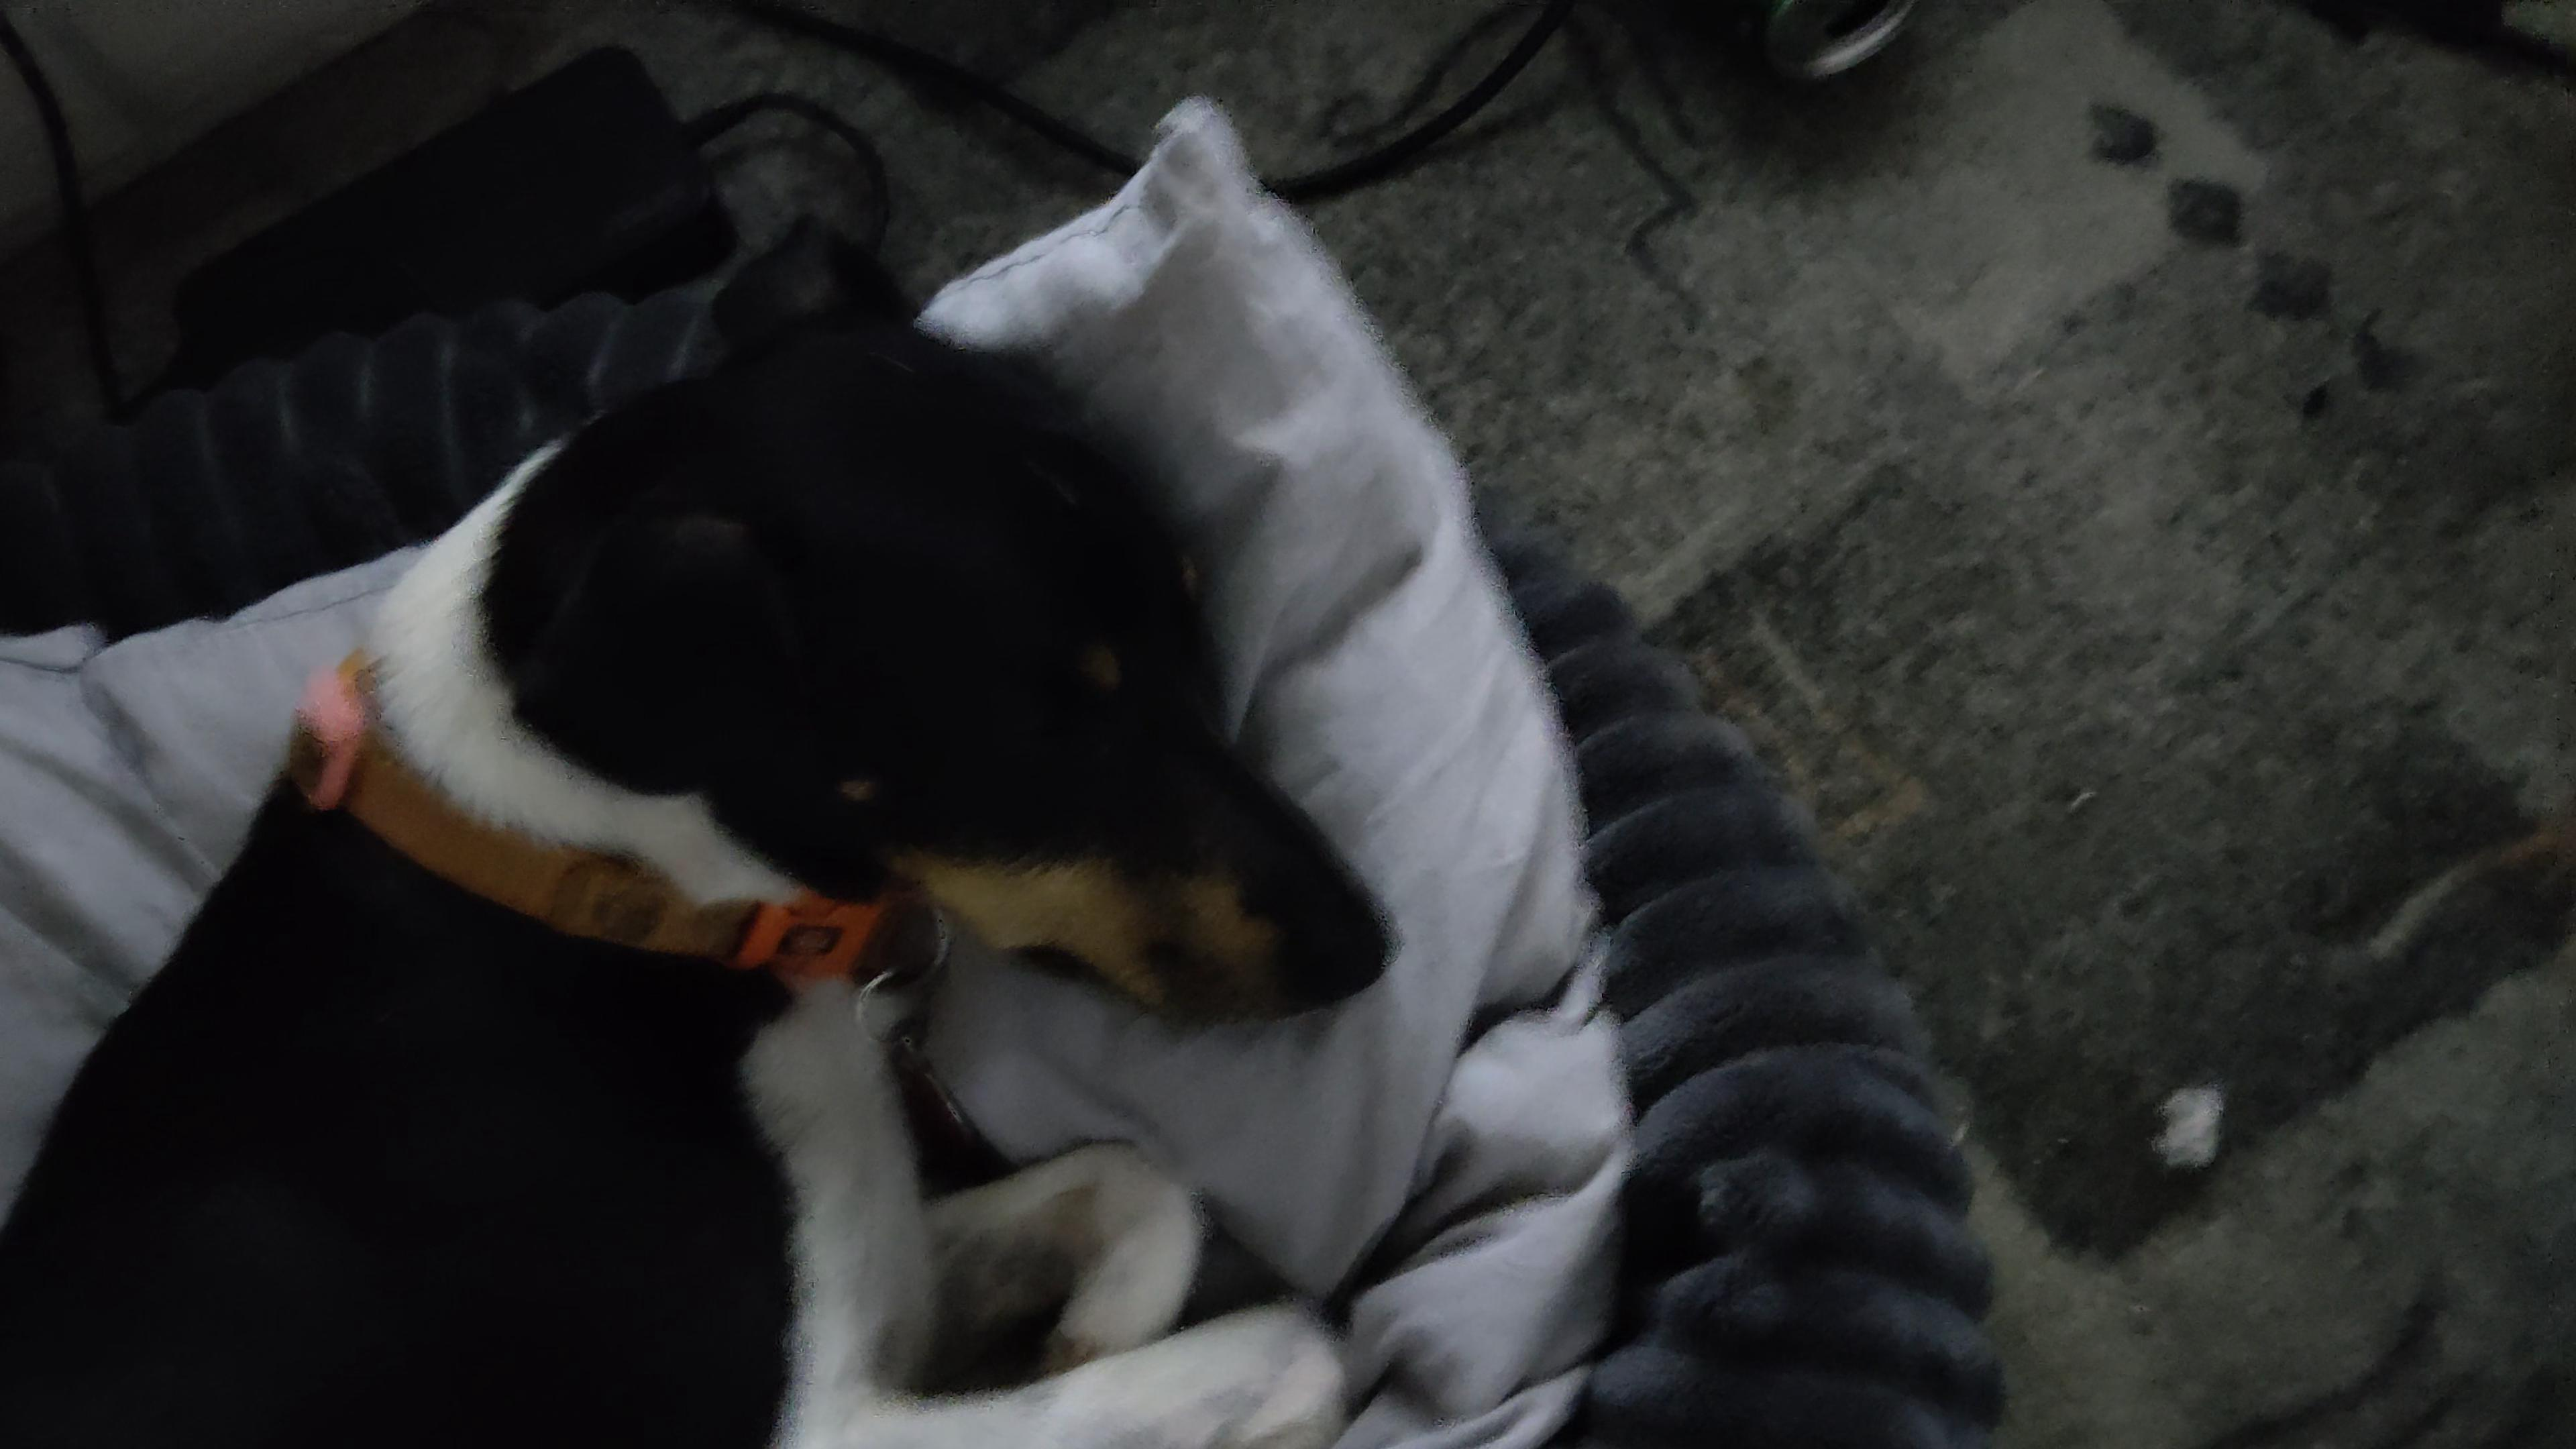Dog: (0, 191, 1414, 1449)
